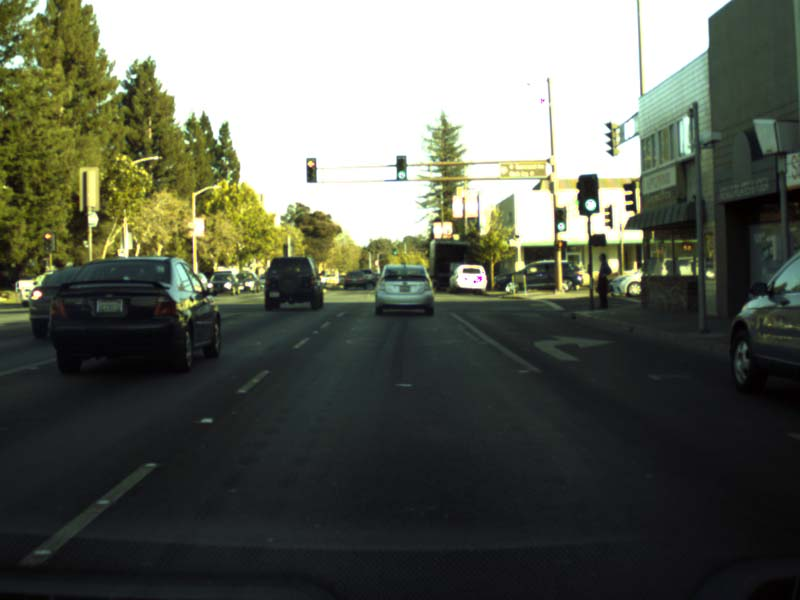Green: (581, 176, 597, 212), (554, 207, 566, 230), (396, 155, 406, 180), (392, 247, 396, 254)
Red: (305, 157, 316, 182), (44, 231, 51, 249)
